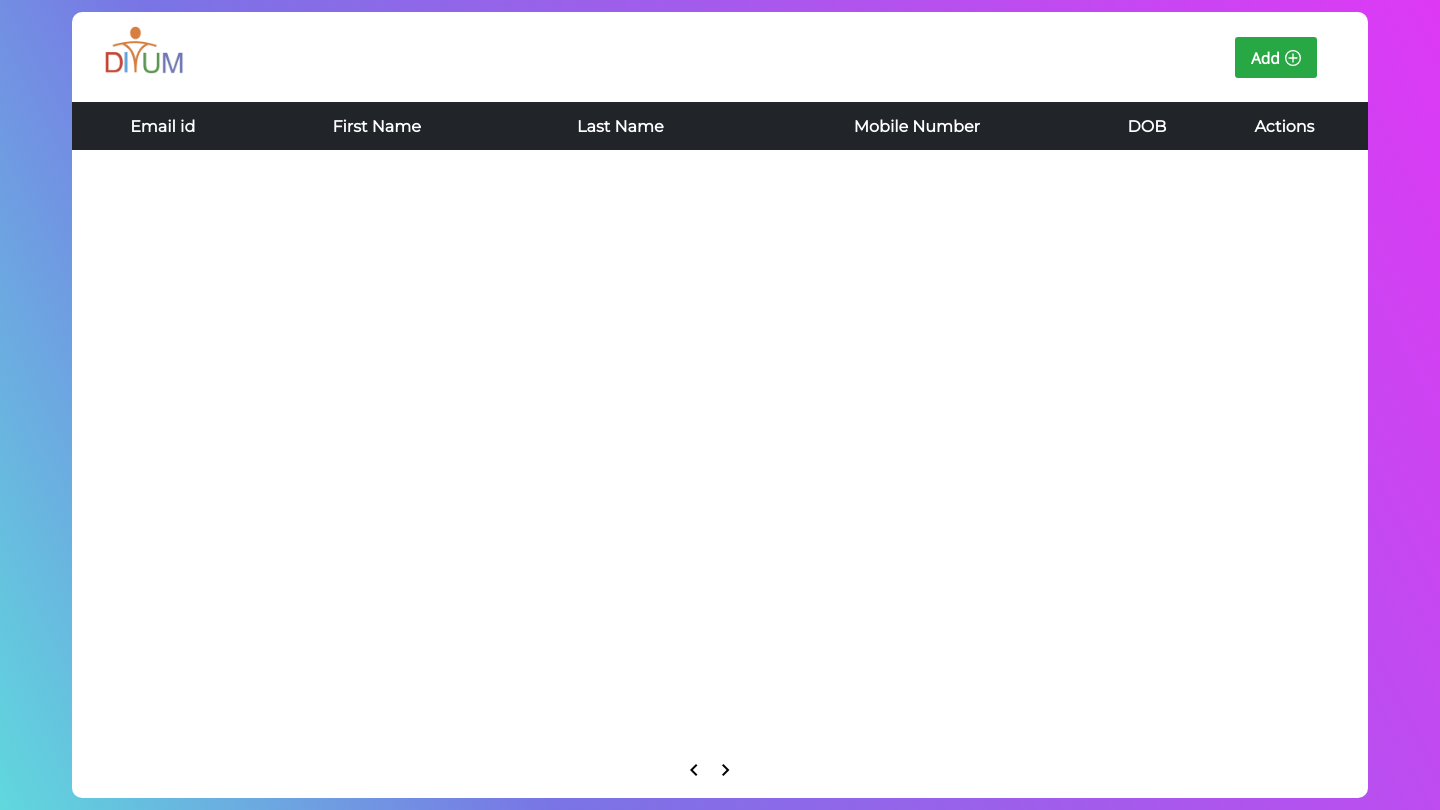
Test: Form Validation › Email id validation
Click the link with test id "add-btn": x=1276, y=58 [1235, 37, 1317, 78]
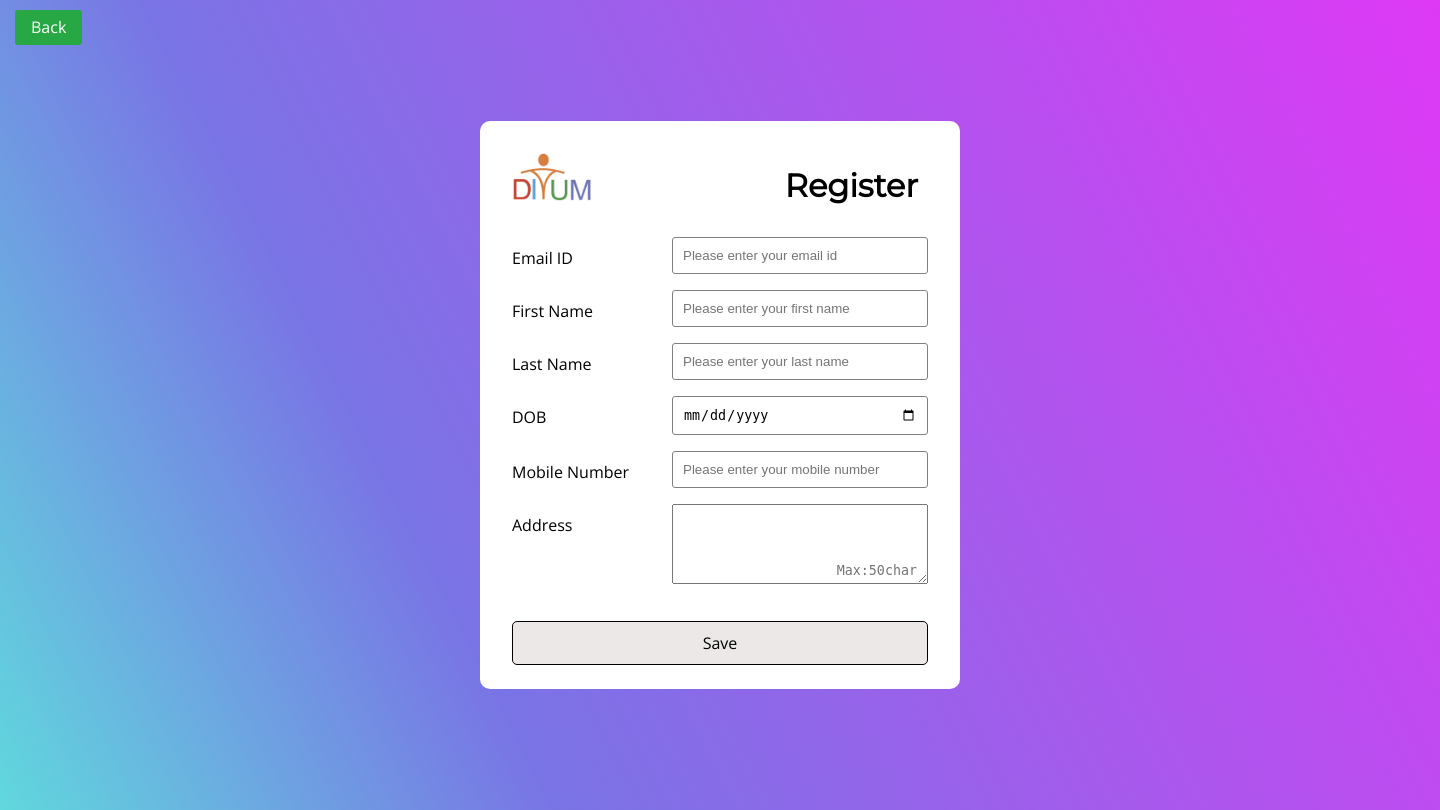
Click the link with test id "submit": x=720, y=643 [512, 621, 928, 665]
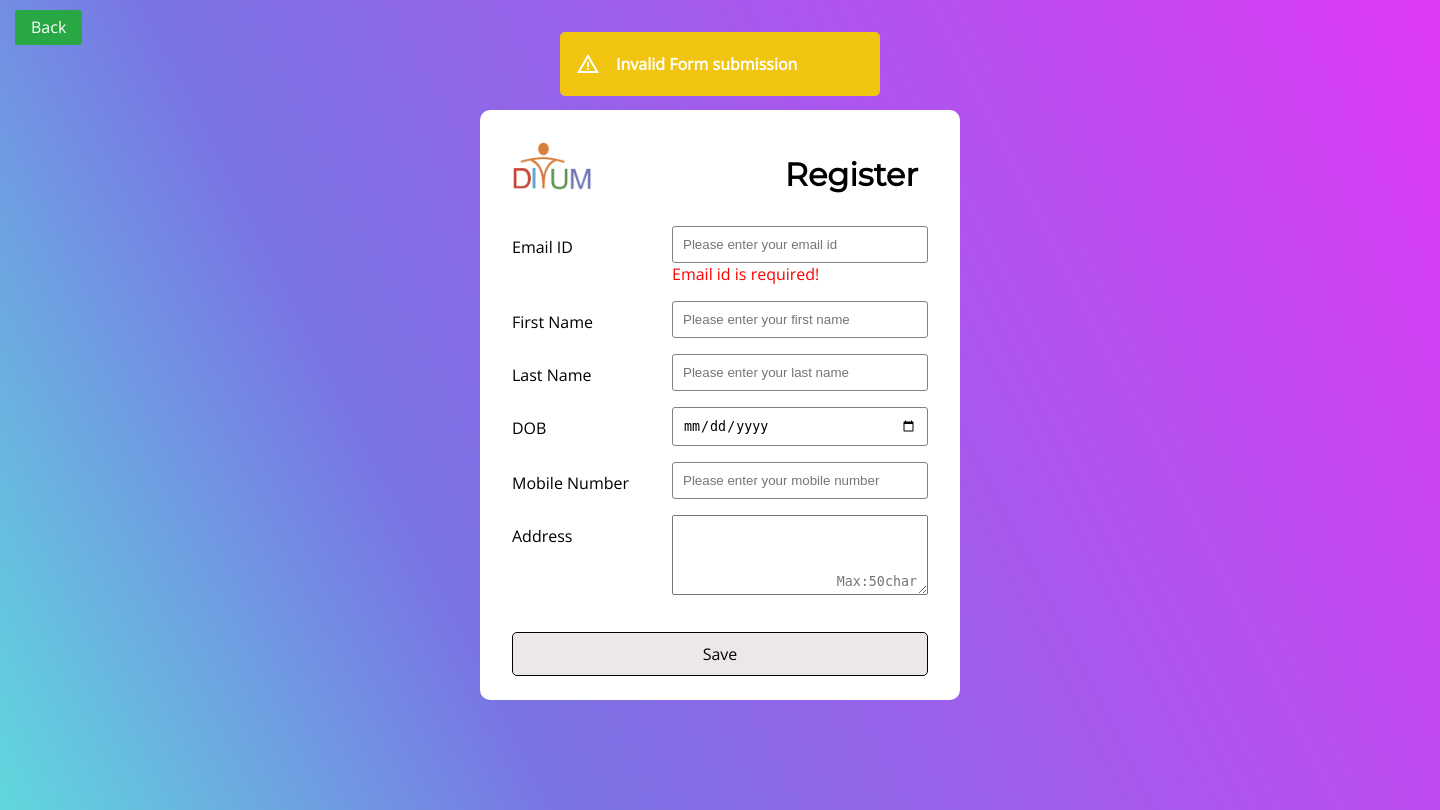
Expected: the text with test id "emailid-error-msg" reads "Email id is required!", [672, 263, 819, 285]
Test case 2
In the field with test id "emailId": x=800, y=245 [672, 226, 928, 263], type "asakthivel@gmail.com"
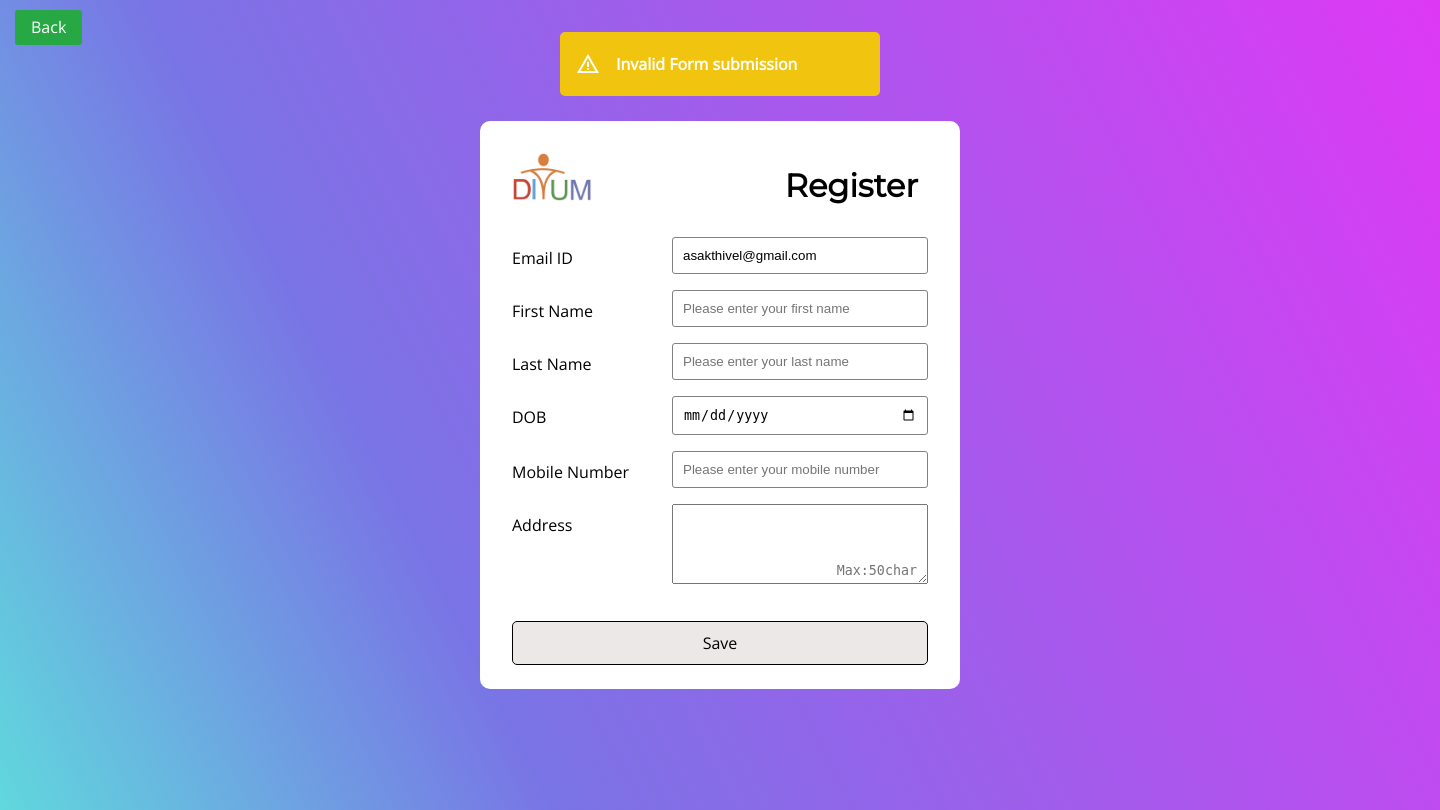
Click the link with test id "submit": x=720, y=643 [512, 621, 928, 665]
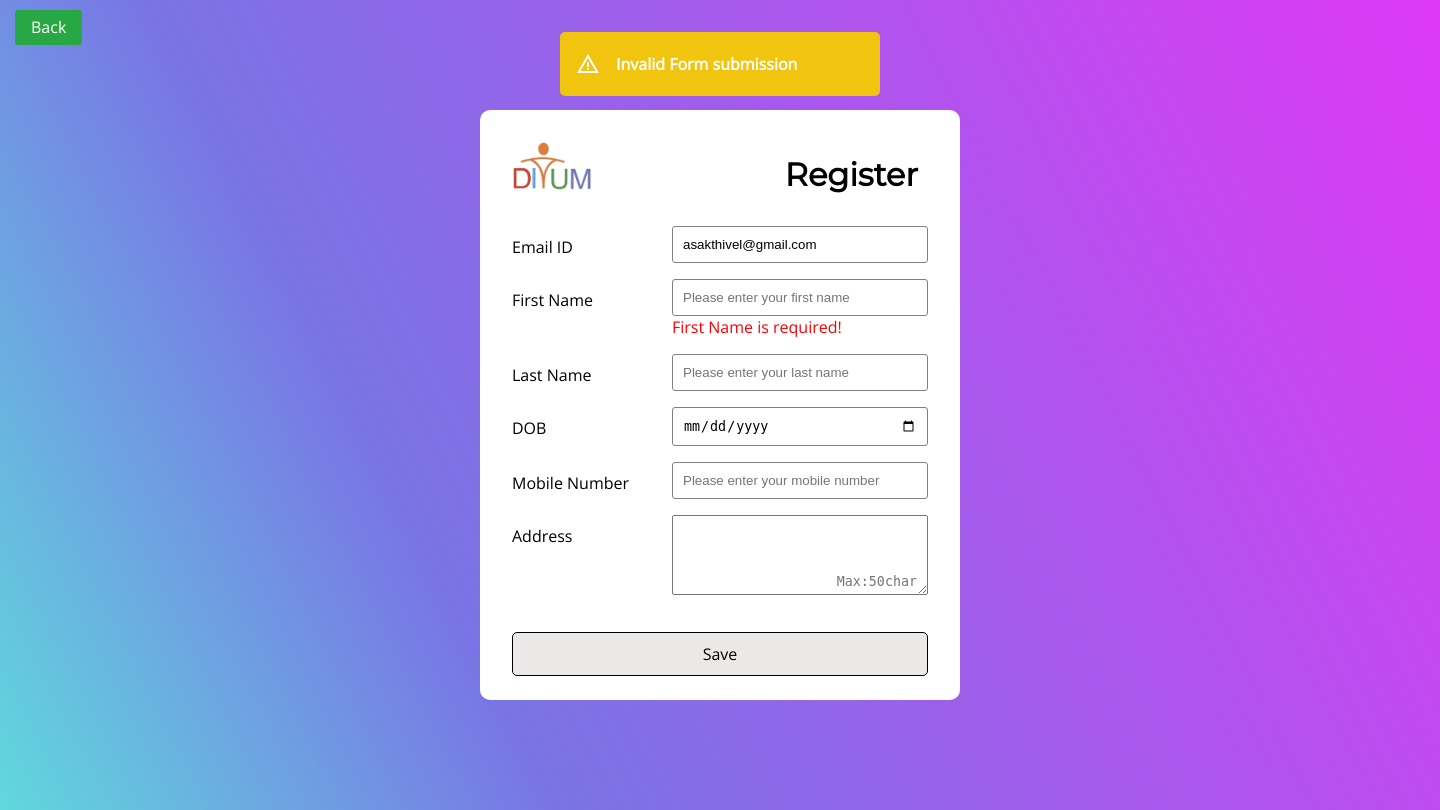
Test case 3
Replace the text in the field with test id "emailId" with "asakthivel": x=800, y=245 [672, 226, 928, 263]
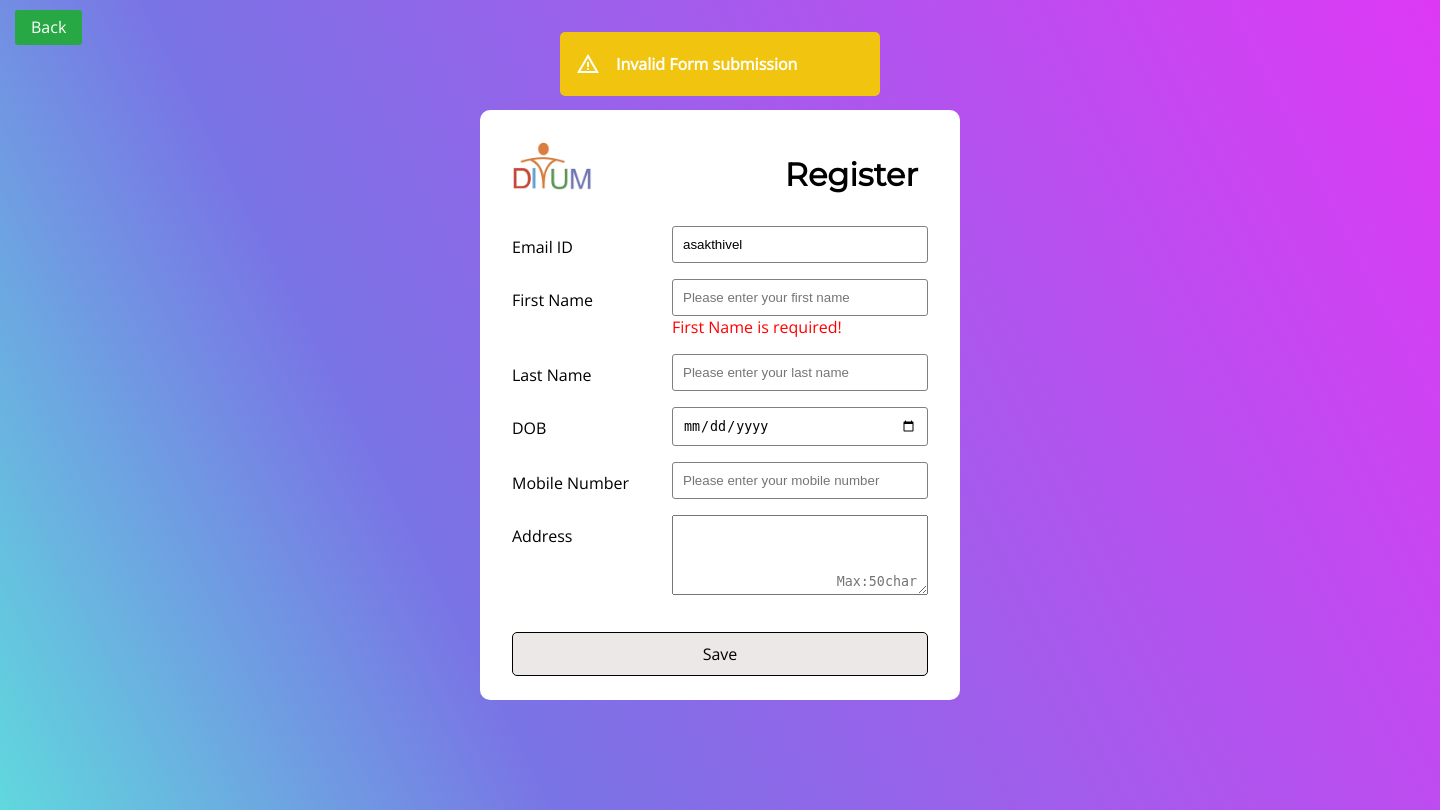
Click the link with test id "submit": x=720, y=654 [512, 632, 928, 676]
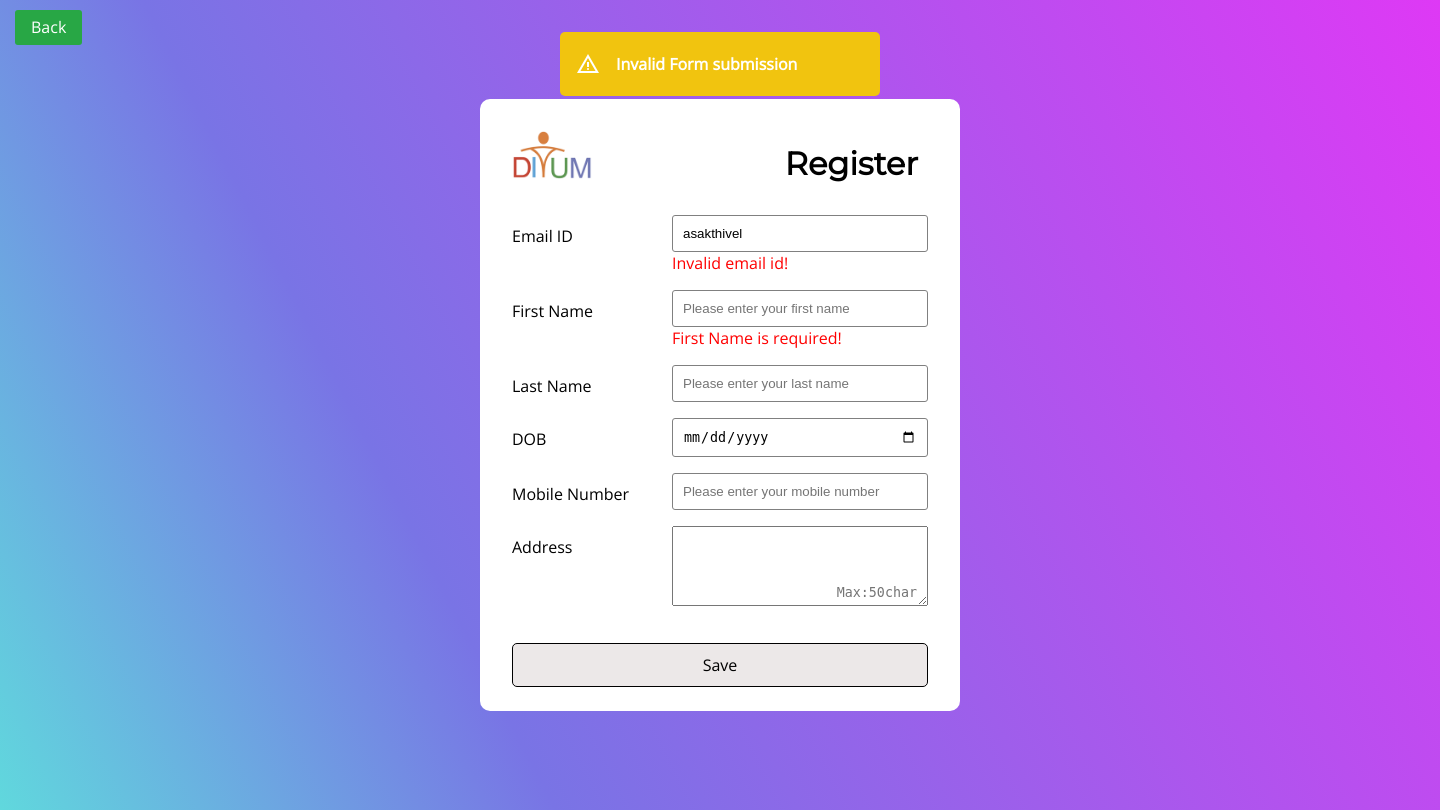
Expected: the text with test id "emailid-error-msg" reads "Invalid email id!", [672, 252, 788, 274]
